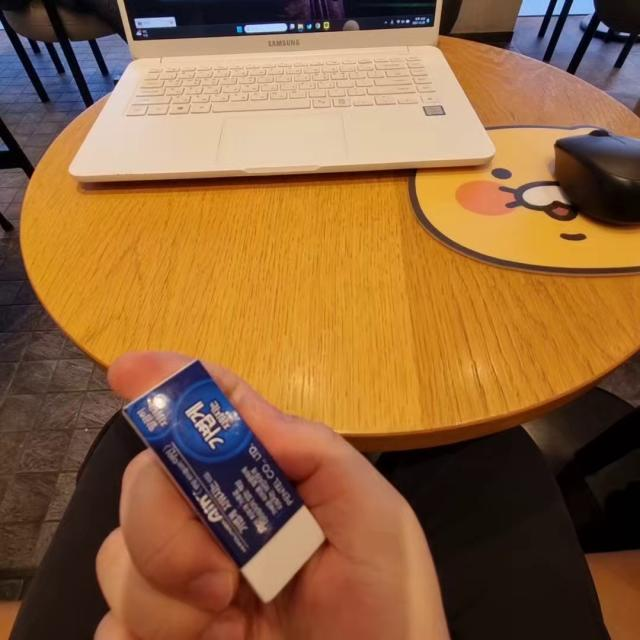eraser: (129, 366, 326, 582)
grab_eraser: (82, 338, 454, 640)
mouse: (554, 122, 640, 235)
